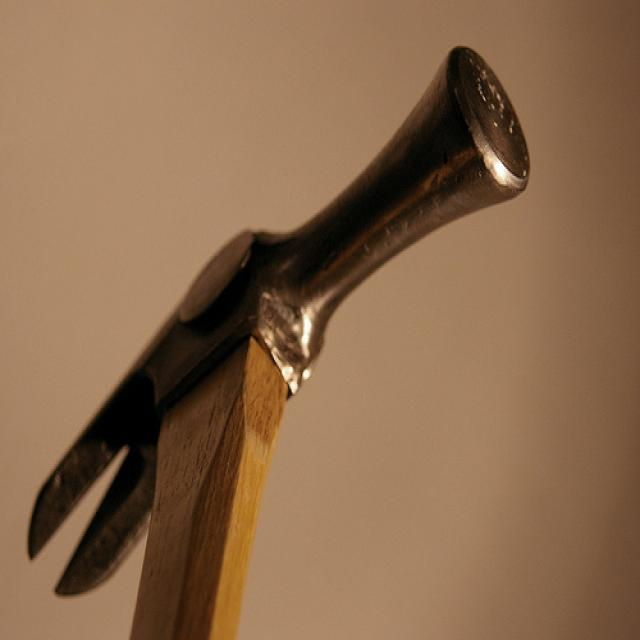hammer: (28, 46, 531, 640)
